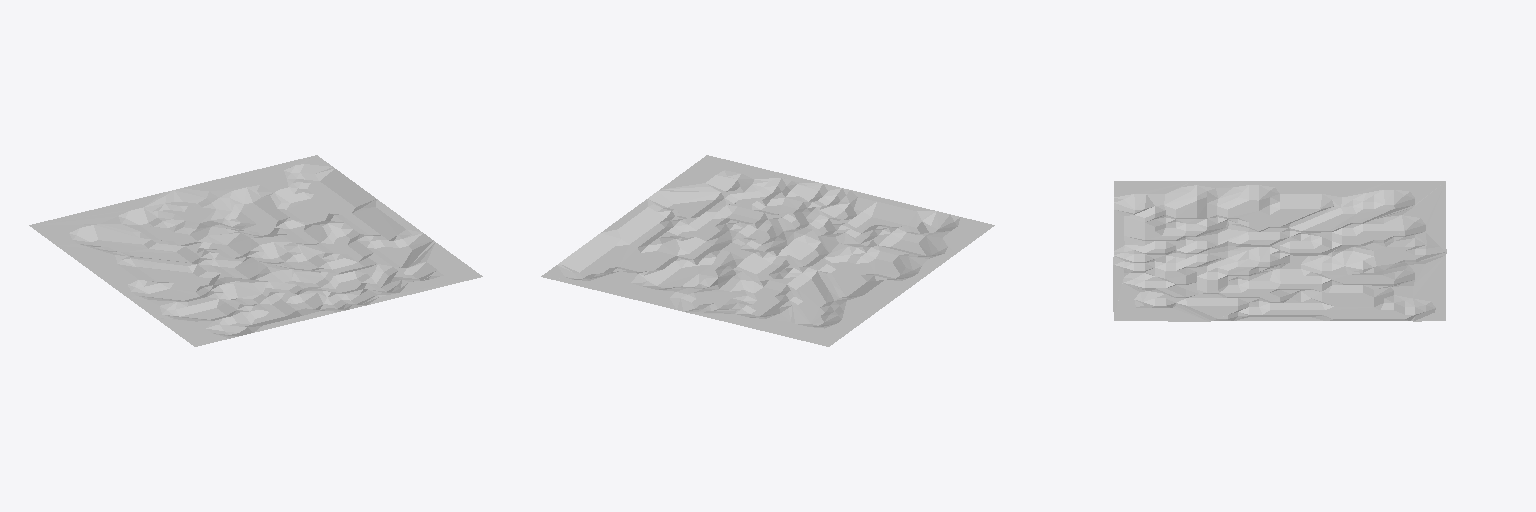
The model's file is Terrain01.obj.
3 renders of one model, left to right at view 1: azimuth 30°, elevation 25°; view 2: azimuth 150°, elevation 25°; view 3: azimuth 270°, elevation 25°, orthographic.
Visible parts, largest first — view 1: Plane.001; view 2: Plane.001; view 3: Plane.001.
Part boxes in pixels (x1,y1,x2,y2): Plane.001: (29,155,482,346); Plane.001: (541,155,994,346); Plane.001: (1113,181,1446,321).
Bounding box in the file's own units: 50 × 1.76 × 50.01.